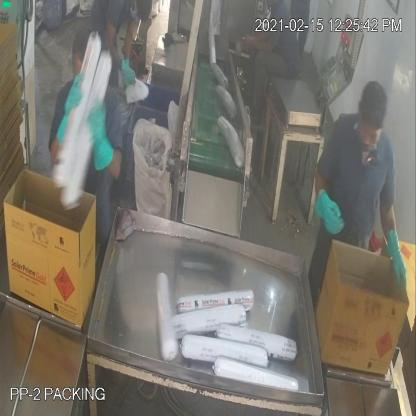glove: (86, 93, 116, 181), (312, 174, 349, 244), (50, 72, 82, 148), (384, 216, 410, 294)
no_glove: (237, 34, 281, 60)
